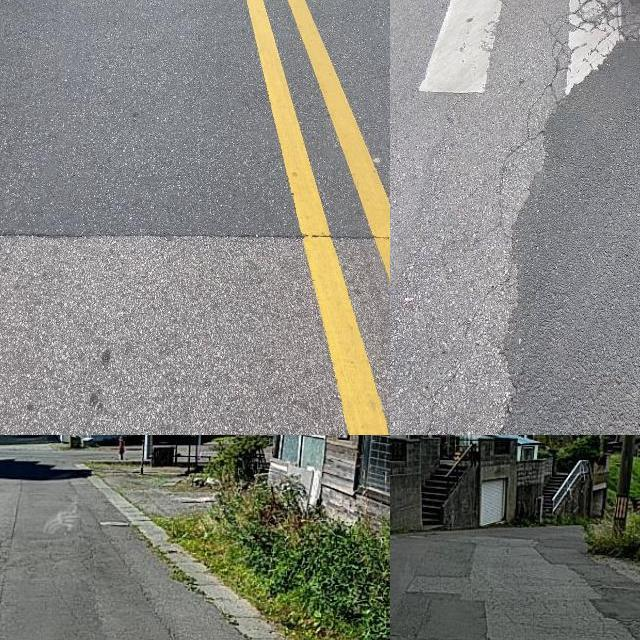Sambungan: (0, 0, 390, 241), (505, 40, 640, 435), (538, 549, 640, 640)
